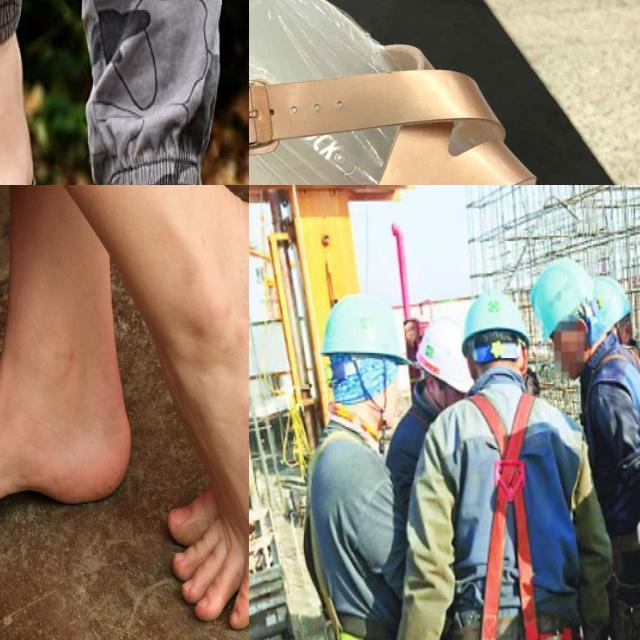Barefoots: (167, 204, 249, 628), (0, 379, 132, 584)
Harness: (447, 390, 570, 640), (296, 423, 405, 640), (584, 351, 640, 614)
Sandals: (249, 0, 609, 185)
